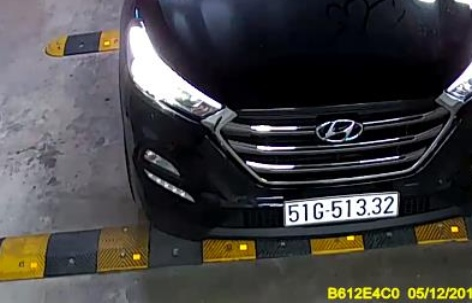plate: (275, 190, 401, 227)
